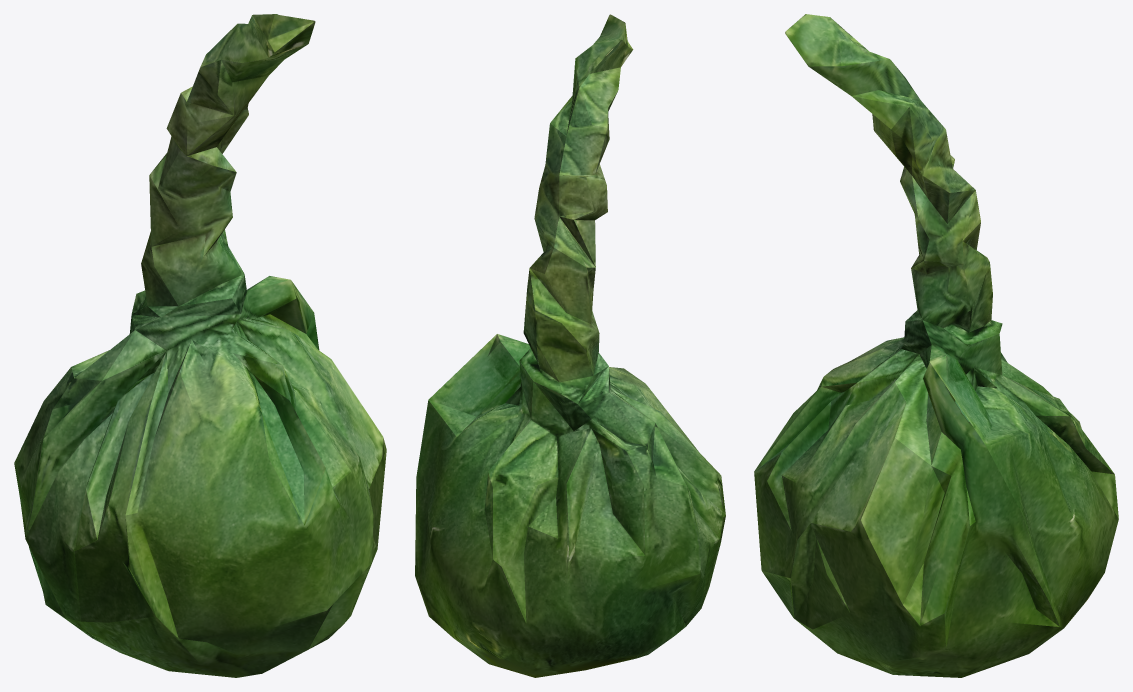
The picture shows the model from 3 angles, left to right: view 1: azimuth 30°, elevation 25°; view 2: azimuth 150°, elevation 25°; view 3: azimuth 270°, elevation 25°; orthographic projection. The views are drawn at different scales.
Visible parts, largest first — view 1: SN_pellet; view 2: SN_pellet; view 3: SN_pellet.
Boxes of the visible parts, x1=… form: SN_pellet: x1=14, y1=14, x2=386, y2=677; SN_pellet: x1=415, y1=14, x2=725, y2=677; SN_pellet: x1=754, y1=14, x2=1118, y2=677.
Size of the model in its own units: 1.46 by 2.84 by 1.5.
Materials: 1 (1 with a texture image).
